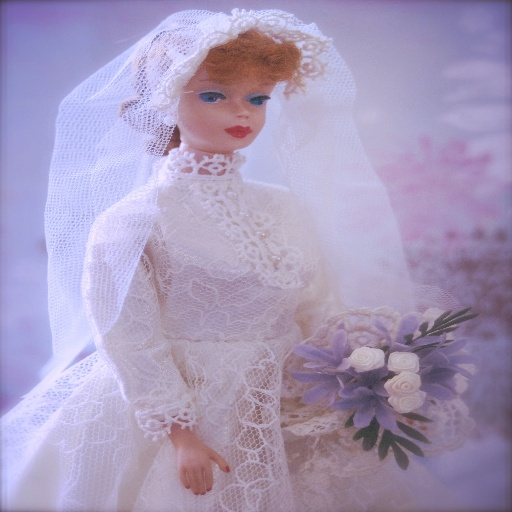hand: (159, 428, 232, 501)
